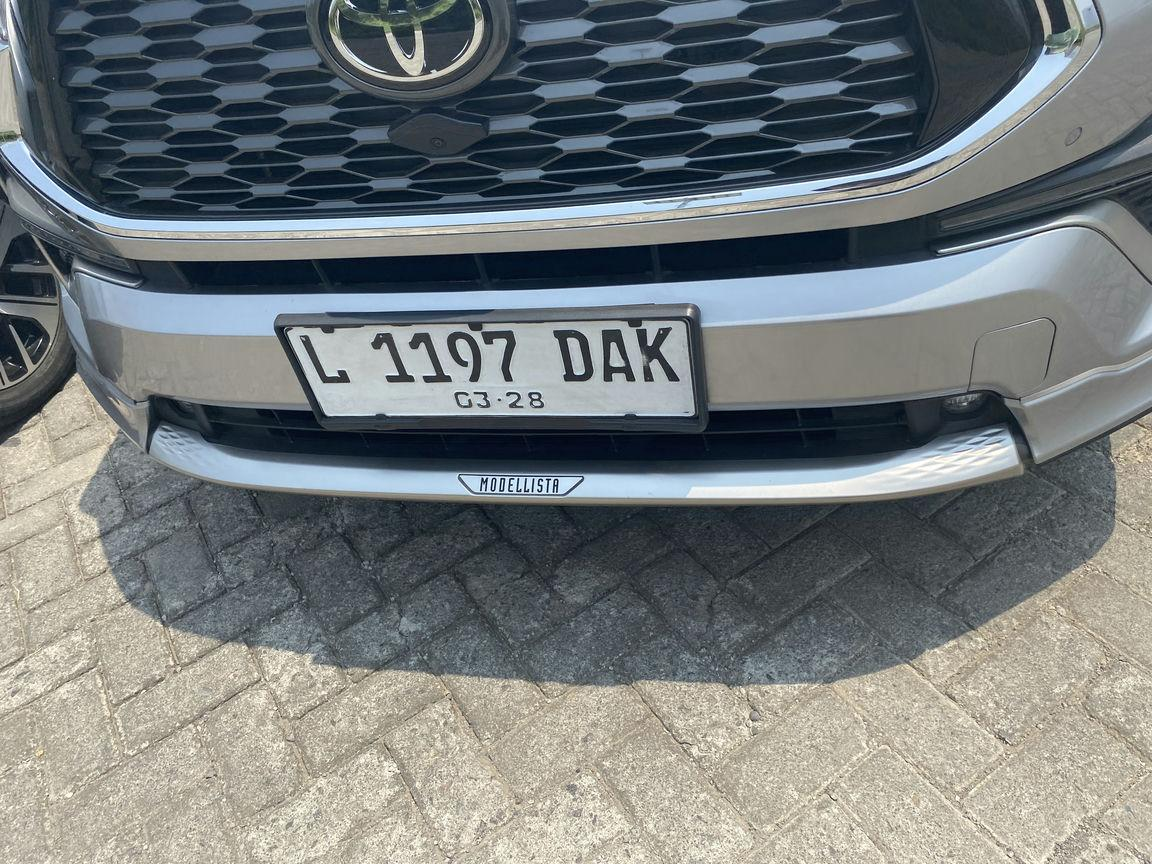plat: (277, 308, 704, 430)
